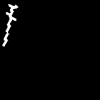double_crochet: (3, 5, 17, 45)
